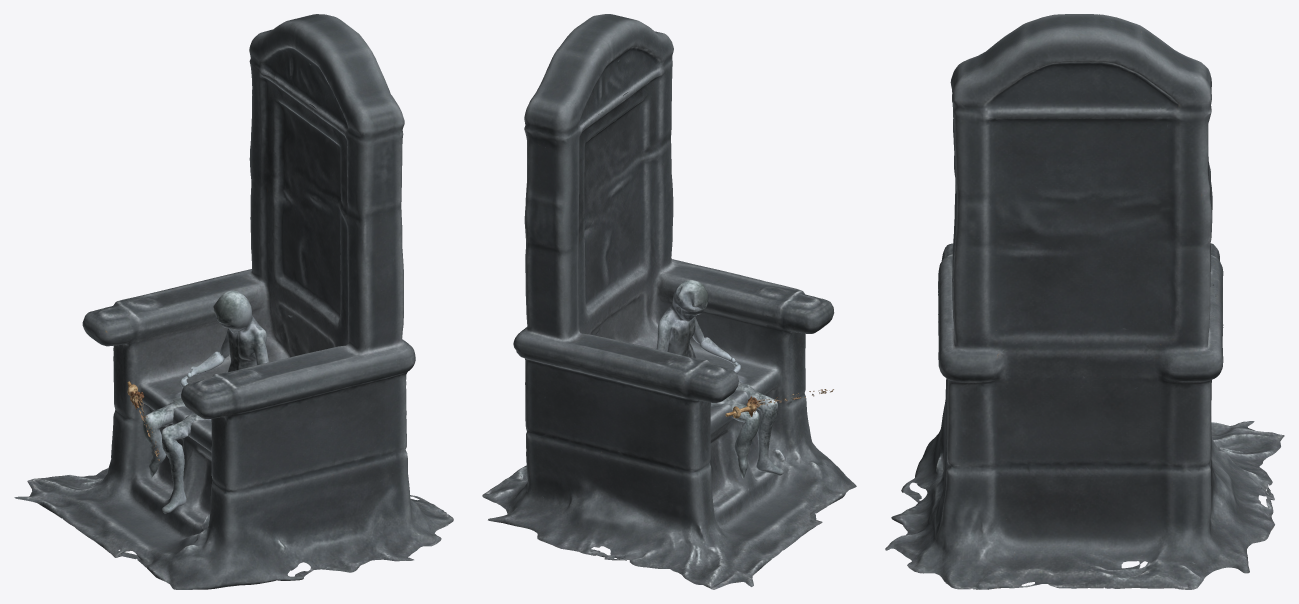
The model's file is original.glb.
3 renders of one model, left to right at view 1: azimuth 30°, elevation 25°; view 2: azimuth 150°, elevation 25°; view 3: azimuth 270°, elevation 25°, orthographic. The views are drawn at different scales.
Visible parts, largest first — view 1: world; view 2: world; view 3: world.
Boxes of the visible parts, x1,y1,x2,y2 form: world: [14, 14, 453, 589]; world: [482, 14, 856, 589]; world: [885, 14, 1284, 589].
Bounding box in the file's own units: 0.6857 × 0.9997 × 0.6839.
1 material, 1 textured.
